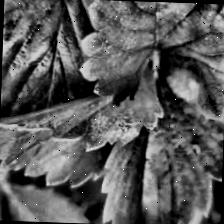Powdery Mildew Leaf: (0, 66, 165, 192)
